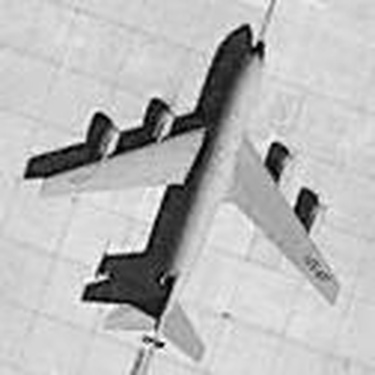airplane: (25, 23, 345, 359)
